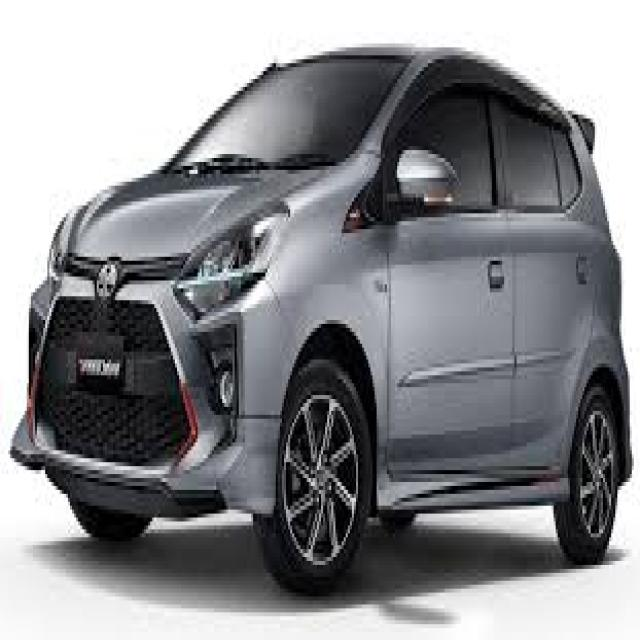PeroduaAxia: (8, 40, 634, 592)
